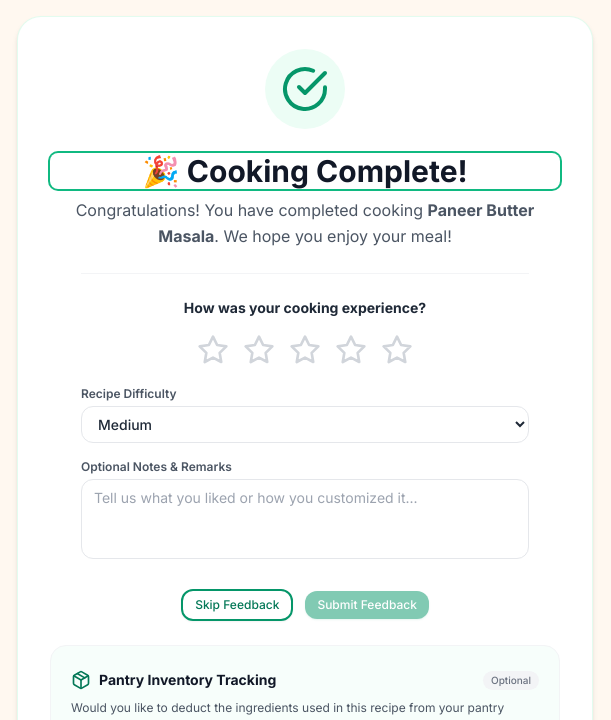
Test case: CookingPage - Advanced Navigation & Progress (9.4) › Cooking Session Polish & Reliability (9.10) › Phase 11.3 — Recipe Feedback & Ratings Flow › submits rating and notes successfully, then shows success message and exit buttons
This screenshot has width=611, height=720.
Expected: the heading "🎉 Cooking Complete!" is shown, [50, 153, 560, 189]
# Click the 4th star
Click the button named "rate" at (351, 350), box [331, 330, 371, 370]
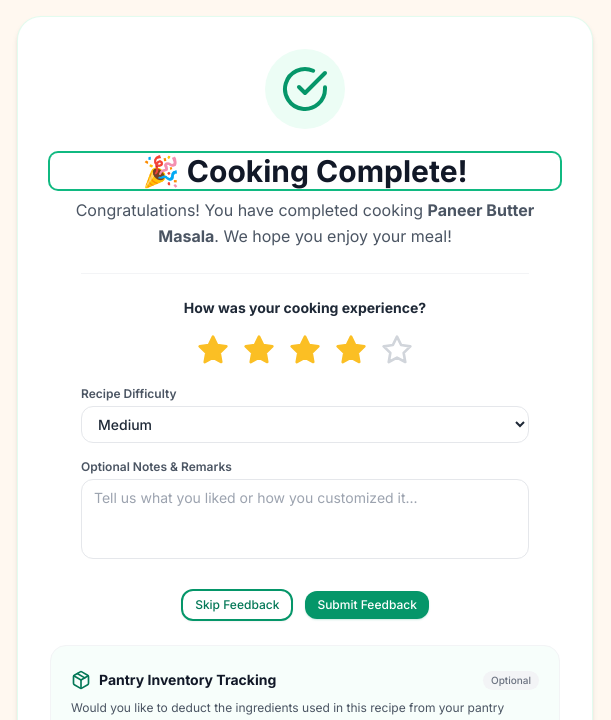
# Enter notes
Type "Great dish!" into the text box labelled "Optional Notes & Remarks" at (305, 519), box [81, 479, 529, 559]
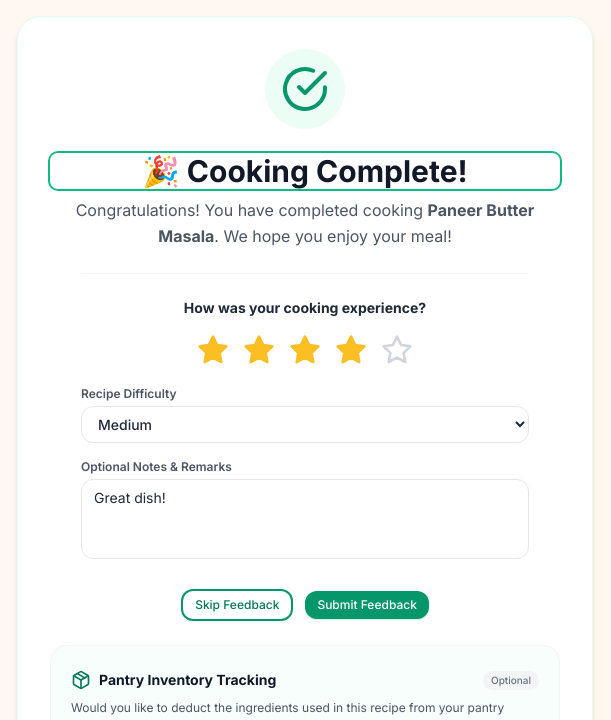
# Click submit
Click the button "Submit Feedback" at (367, 605), box [305, 591, 429, 619]
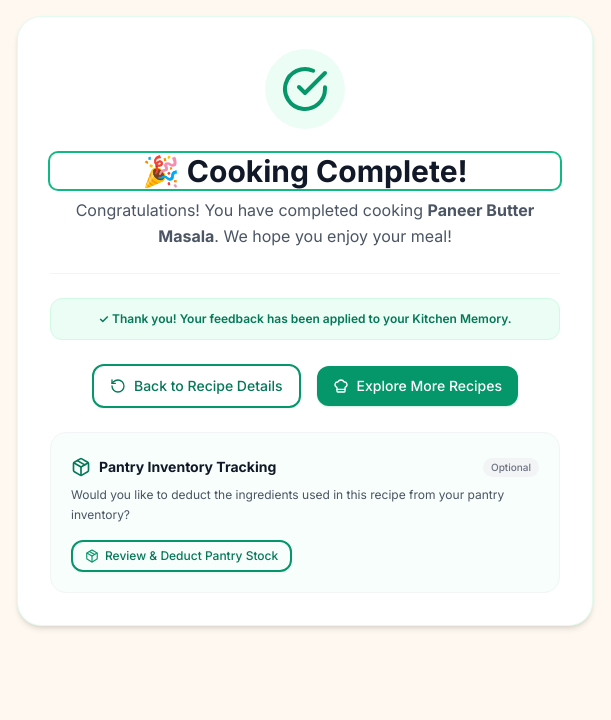
Now the text "Thank you! Your feedback has been applied" is shown, box [98, 311, 512, 326]
Now the button "Back to Recipe Details" is shown, box [92, 364, 301, 408]
Now the button "Explore More Recipes" is shown, box [317, 366, 518, 406]
